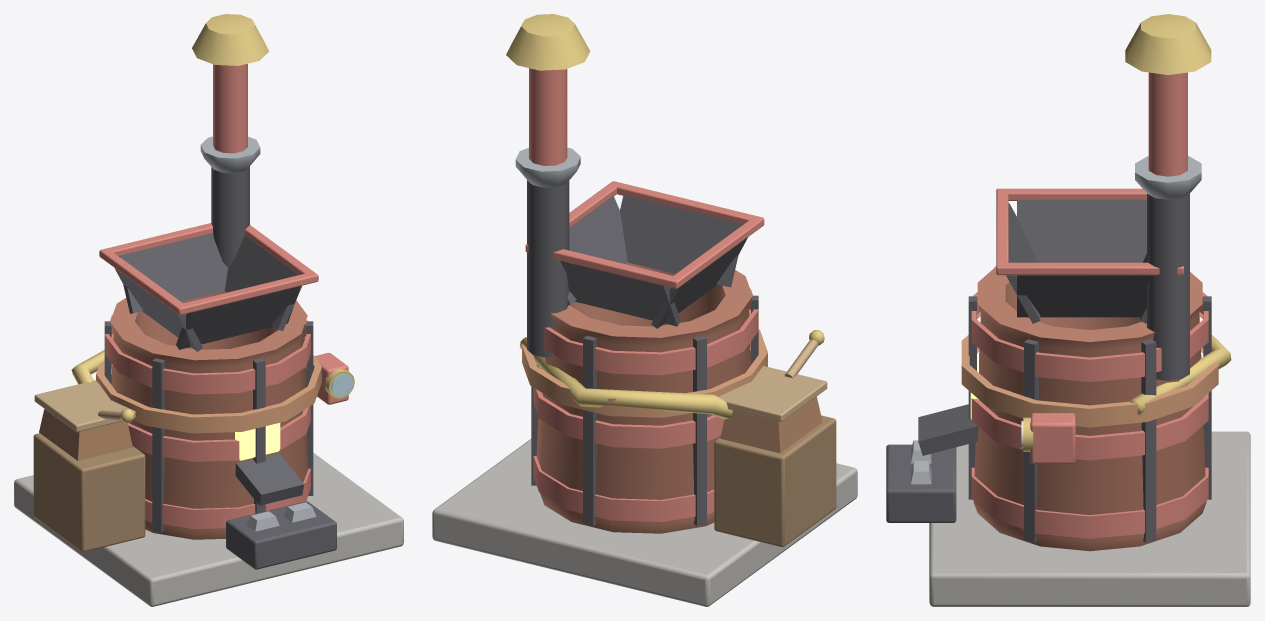
The model's file is machine_crucible_furnace.fbx.
3 views of the same model, side by side, from view 1: azimuth 30°, elevation 25°; view 2: azimuth 150°, elevation 25°; view 3: azimuth 270°, elevation 25° (orthographic). The views are drawn at different scales.
Visible parts, largest first — view 1: machine_crucible_furnace, Upgrade_Lvl1, BellowsPivot, GlowMesh; view 2: machine_crucible_furnace, Upgrade_Lvl1, BellowsPivot; view 3: machine_crucible_furnace, Upgrade_Lvl1.
Part boxes in pixels (x1=…): machine_crucible_furnace: x1=14, y1=136, x2=403, y2=606; Upgrade_Lvl1: x1=71, y1=14, x2=354, y2=433; BellowsPivot: x1=34, y1=380, x2=135, y2=460; GlowMesh: x1=235, y1=423, x2=280, y2=460; machine_crucible_furnace: x1=432, y1=147, x2=857, y2=606; Upgrade_Lvl1: x1=506, y1=14, x2=767, y2=419; BellowsPivot: x1=719, y1=330, x2=827, y2=453; machine_crucible_furnace: x1=886, y1=156, x2=1250, y2=606; Upgrade_Lvl1: x1=961, y1=14, x2=1231, y2=463.
Bounding box in the file's own units: 1.82 × 2.92 × 1.77.
